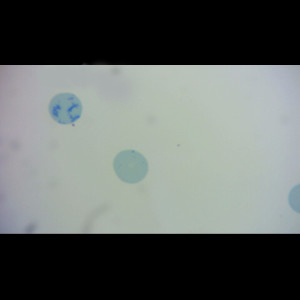aggregate reticulocyte: (48, 92, 83, 125)
punctate reticulocyte: (111, 149, 149, 184)
